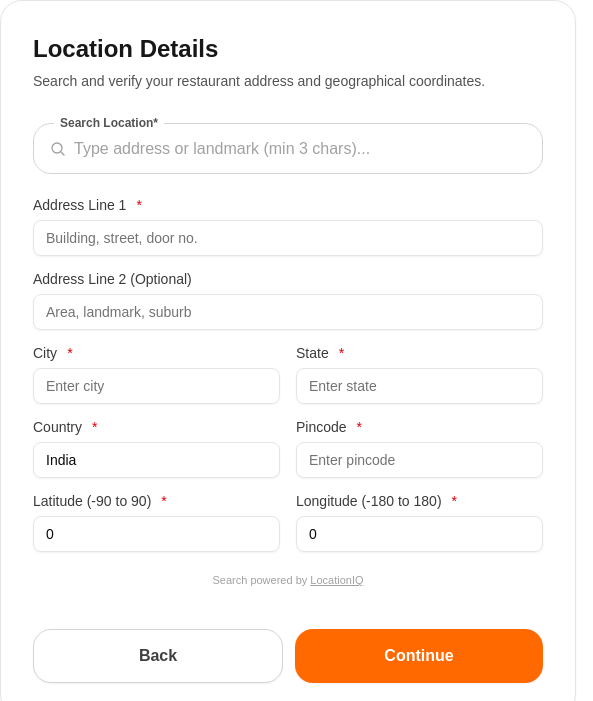
Test: LocationPage › shows validation errors when submitting empty form
Click the button "Continue" at point(419, 656), box [295,628,543,682]
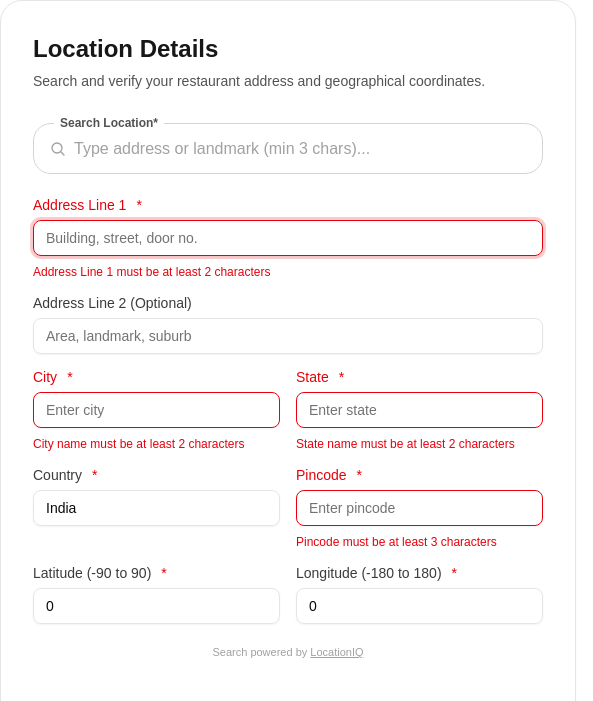
Expected: the text "Address Line 1 must be at least 2 characters" is shown, [33,265,270,279]
Expected: the text "City name must be at least 2 characters" is shown, [33,436,280,452]
Expected: the text "State name must be at least 2 characters" is shown, [296,436,543,452]
